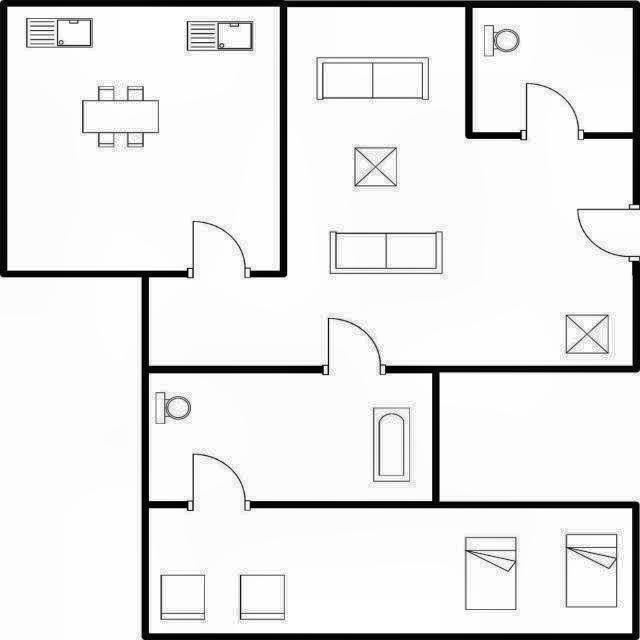room: (149, 7, 633, 366), (7, 7, 280, 271), (149, 508, 632, 633), (149, 373, 432, 501), (473, 8, 633, 132)
